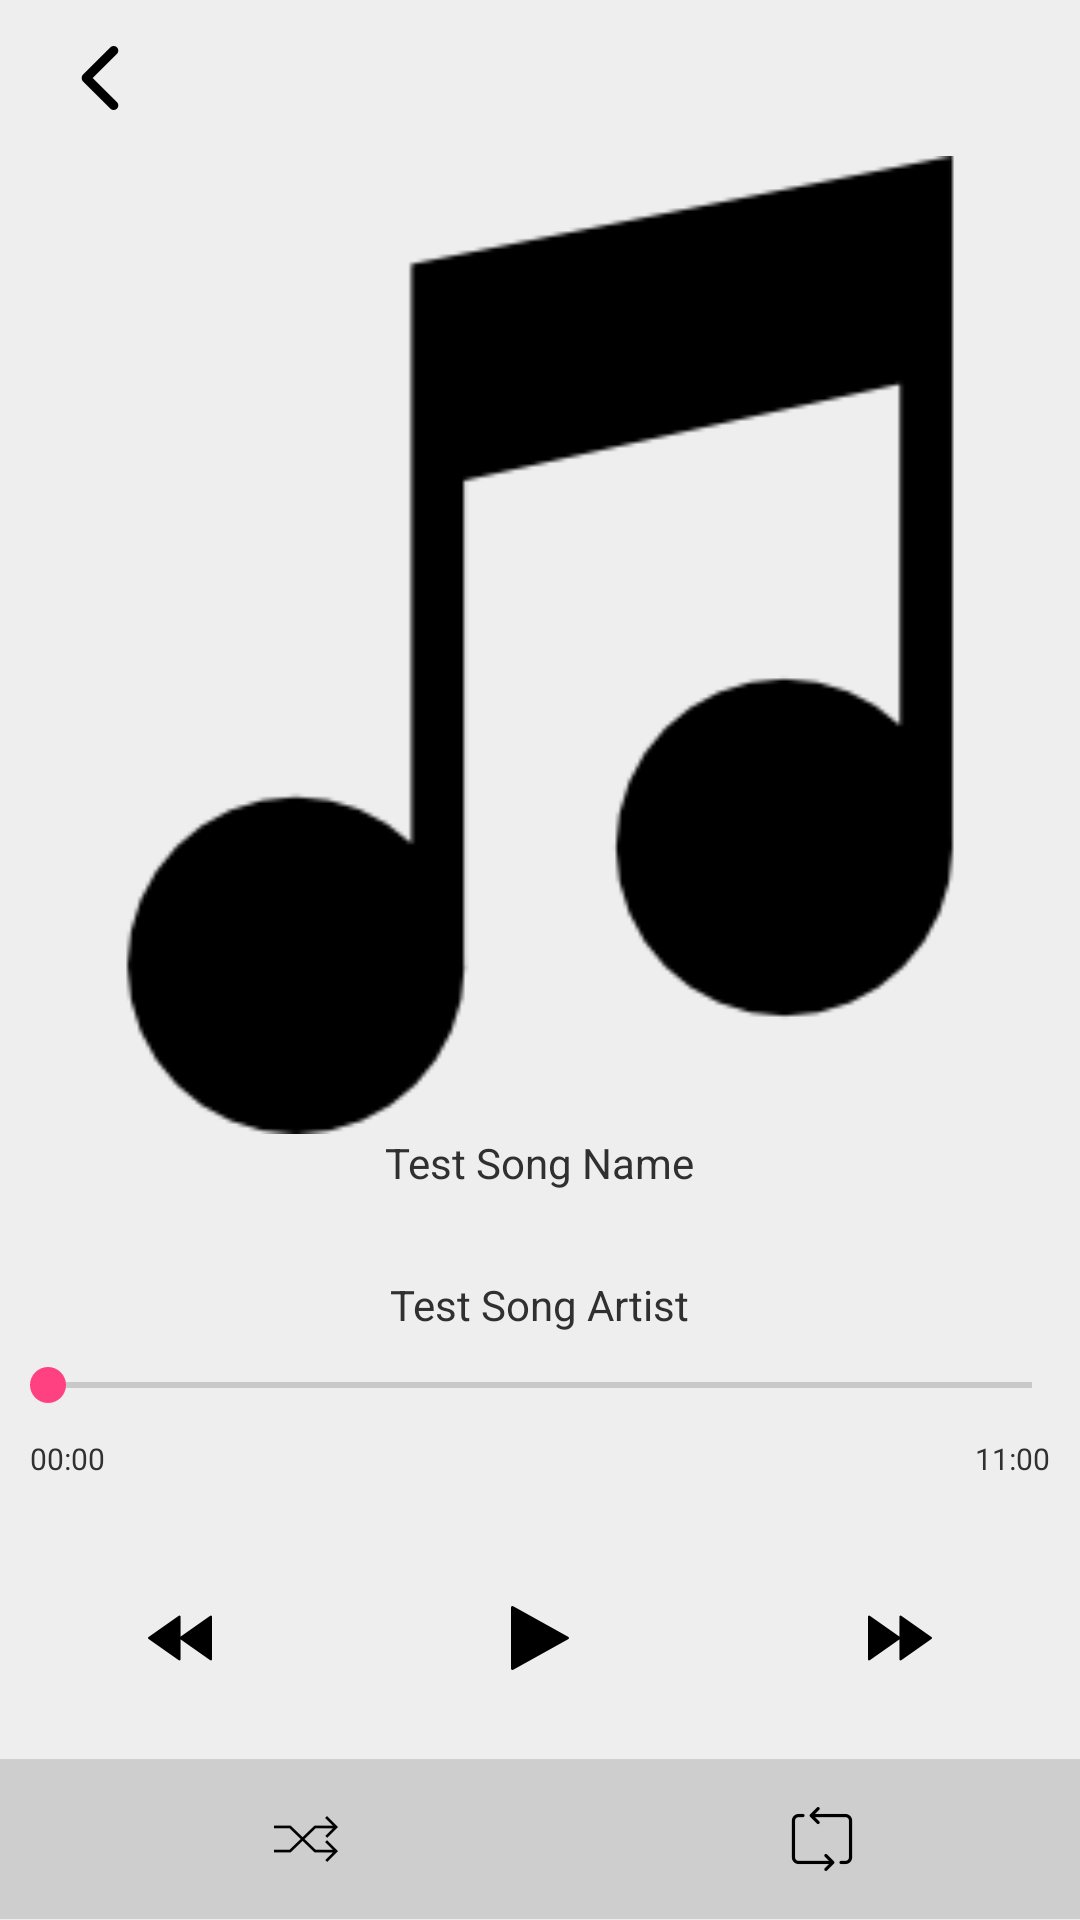

Icon bounding boxes for this 1080w x 1920h phone screenshot, format detection(x1, y1, x2, y2):
back arrow: detection(81, 46, 119, 110)
fast backward: detection(148, 1615, 212, 1661)
fast forward: detection(868, 1615, 932, 1661)
play: detection(511, 1606, 569, 1670)
repeat: detection(791, 1807, 853, 1871)
shuffle arrows: detection(274, 1816, 338, 1862)
